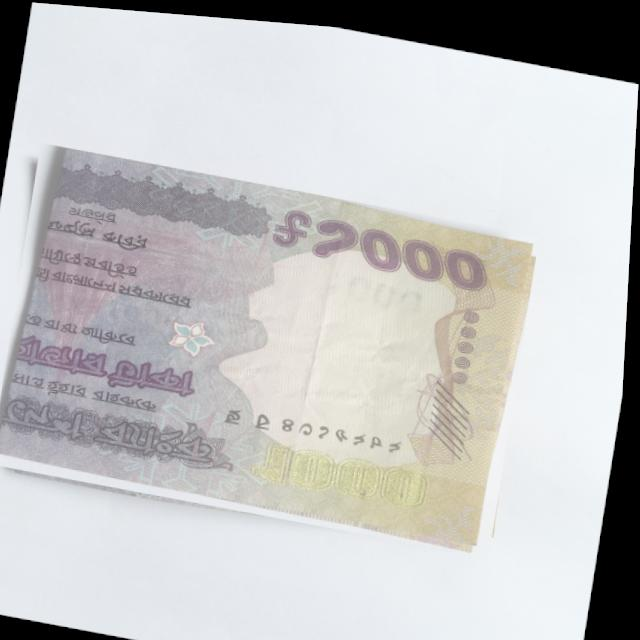Taka: (0, 139, 543, 551)
